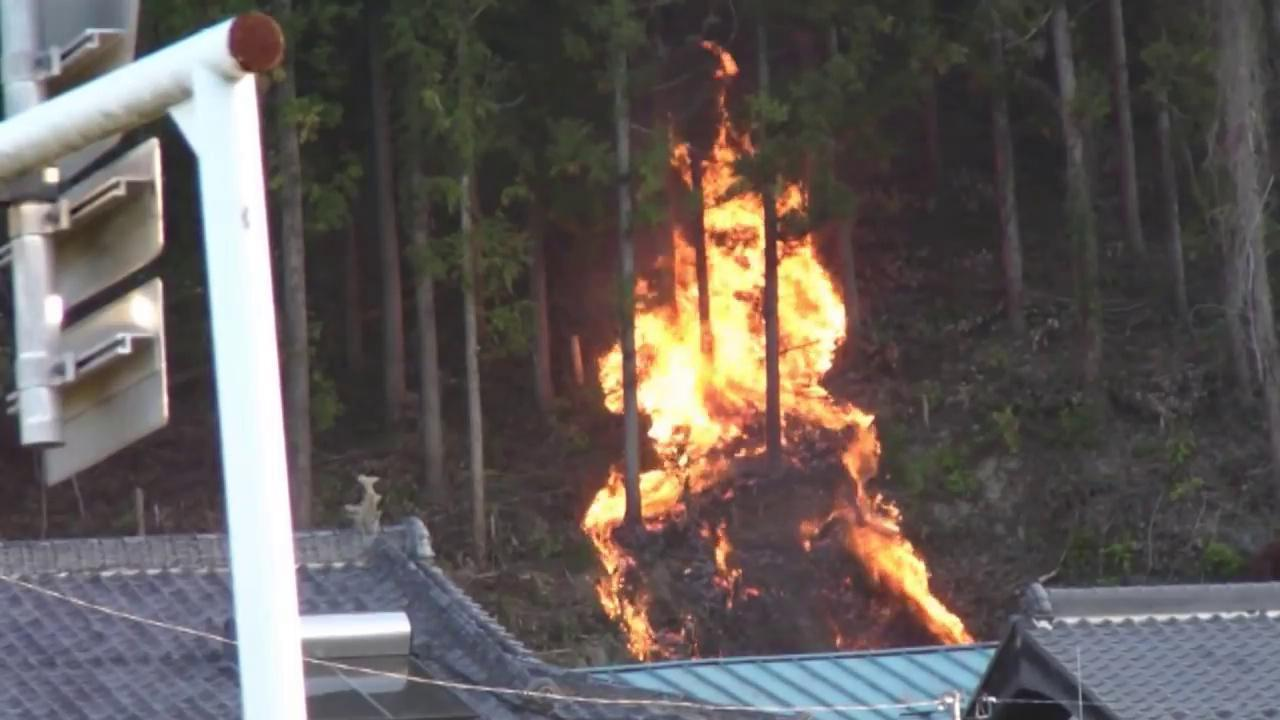Fire: (579, 34, 956, 659)
